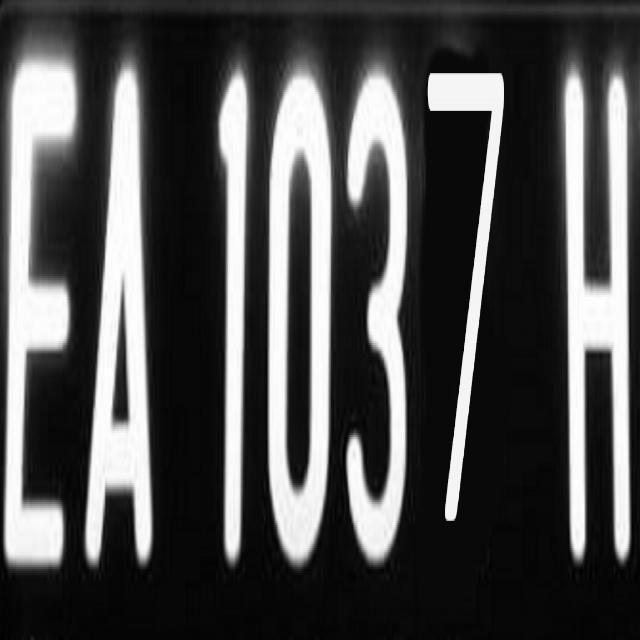0: (260, 76, 332, 576)
1: (198, 65, 252, 570)
3: (342, 70, 416, 572)
7: (420, 53, 508, 540)
A: (82, 55, 163, 568)
E: (0, 54, 77, 568)
H: (543, 55, 640, 588)
